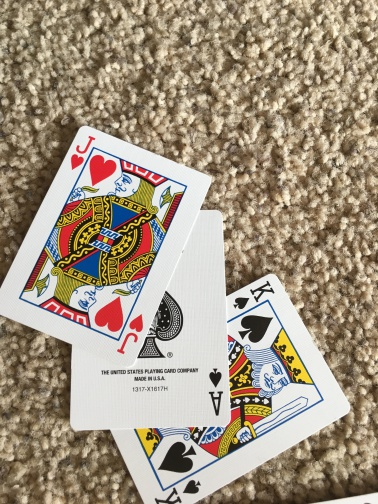ace: (66, 208, 232, 432)
jack: (1, 126, 214, 368)
king: (110, 273, 351, 504)
